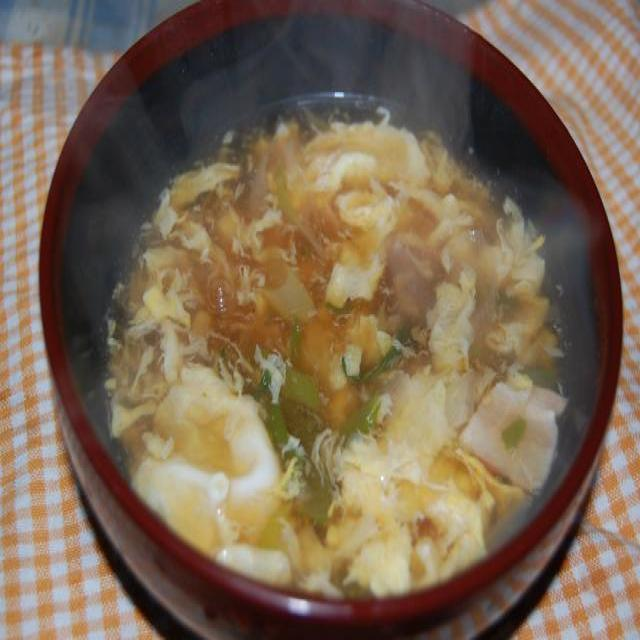汤锅炖物: (66, 4, 598, 625)
